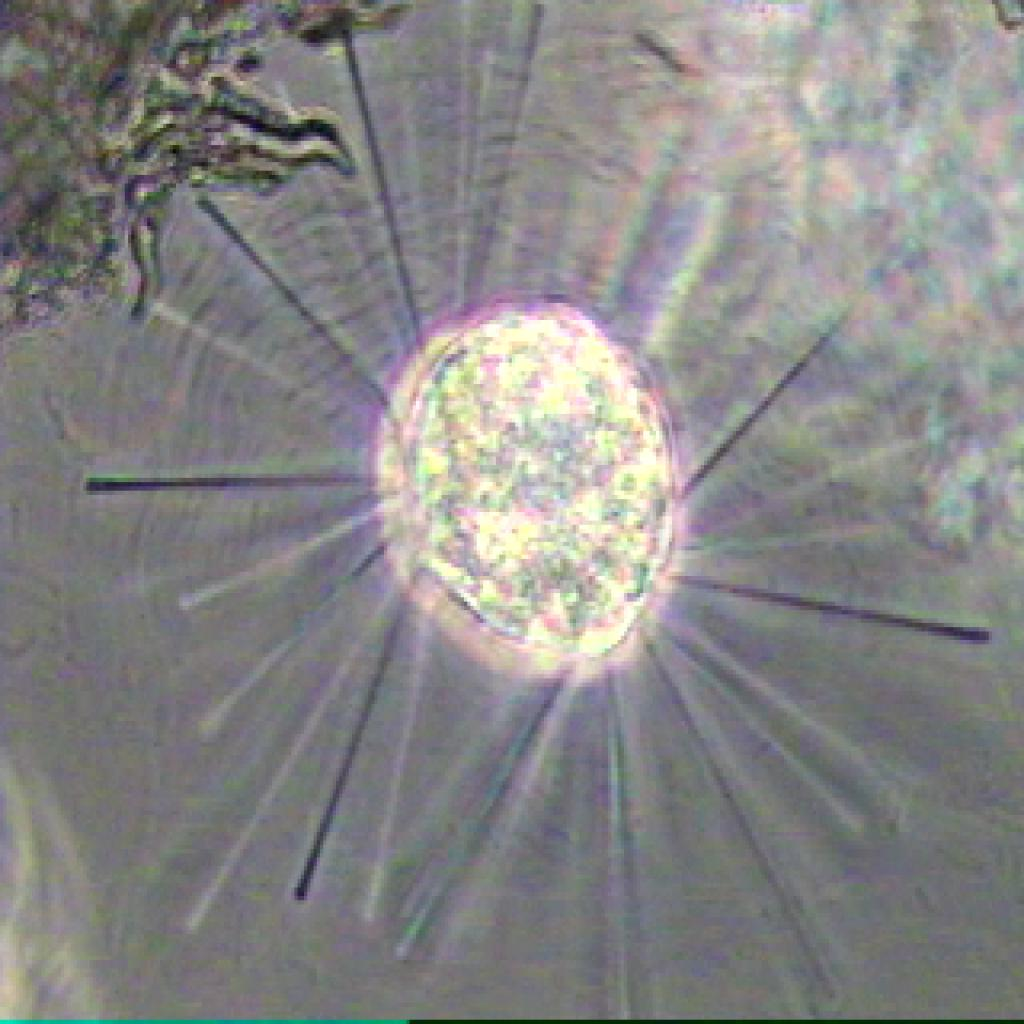Suctorida: (112, 43, 954, 960)
